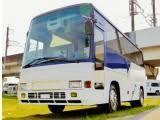bus: (19, 4, 148, 116)
